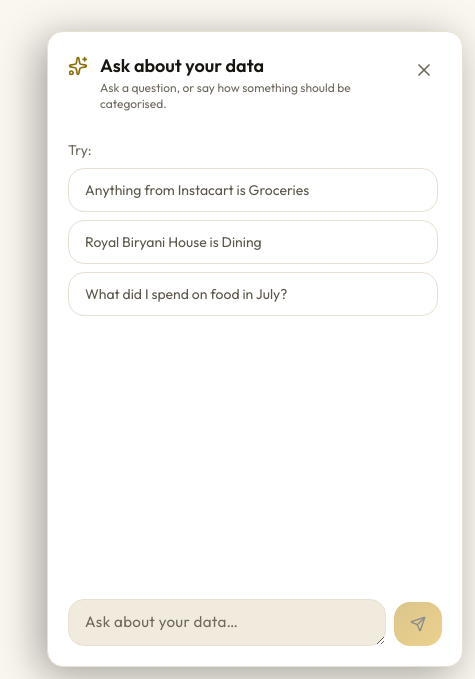
Scenario: DataChatSheet › renders a plain answer with no Apply button
The width and height of the screenshot is (475, 679).
Step 1. Type "what did I spend on food in July?" into the text box named "Message" → (227, 623), box x1=68 y1=599 x2=386 y2=646
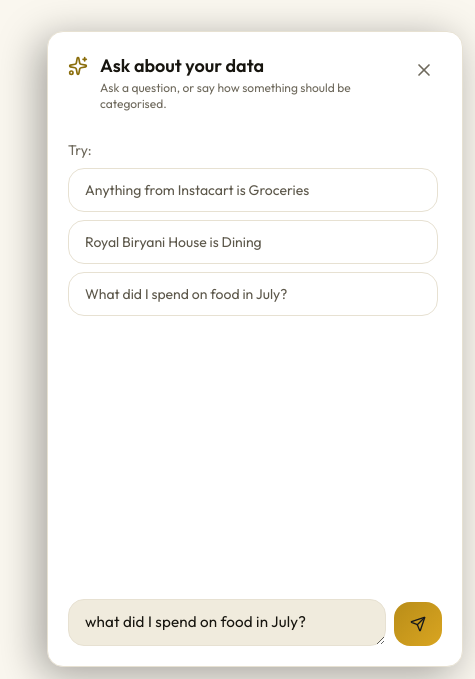
Step 2. Click the button named "Send" → (418, 624), box x1=394 y1=602 x2=442 y2=646
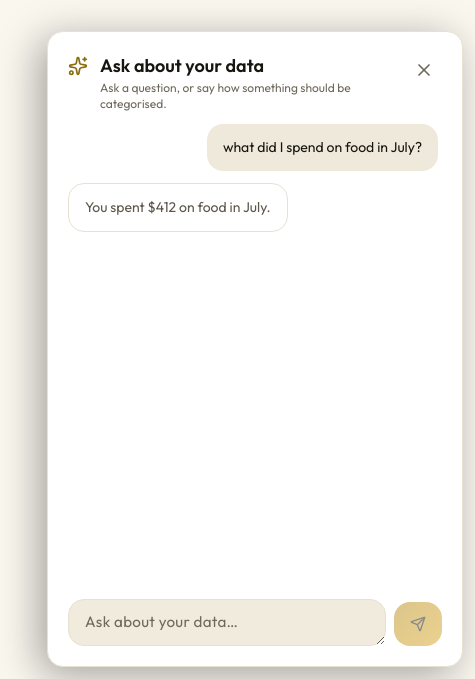
expect the text "You spent $412 on food in July." is shown: met, box x1=85 y1=196 x2=270 y2=219
